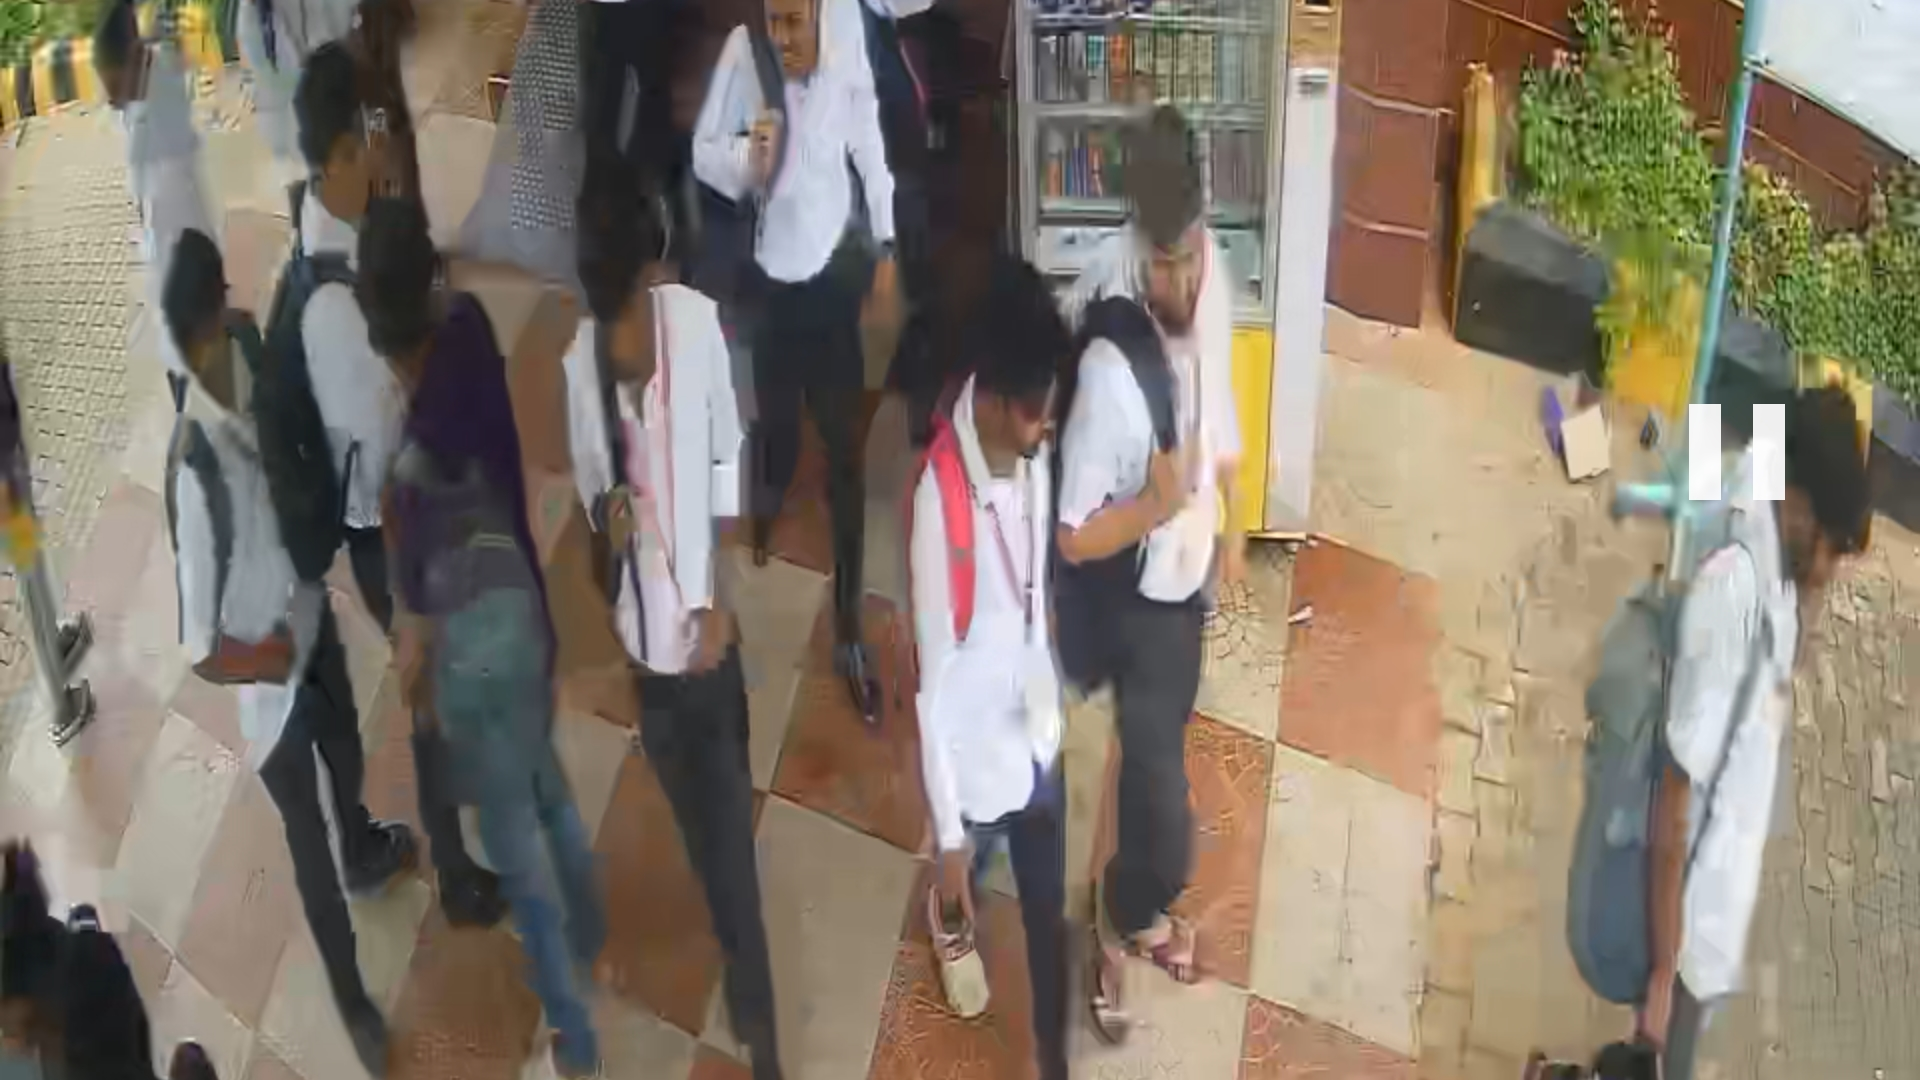intruder: (699, 3, 905, 704)
not intruder: (533, 196, 823, 1080), (1068, 141, 1242, 1080), (913, 268, 1083, 1080)
